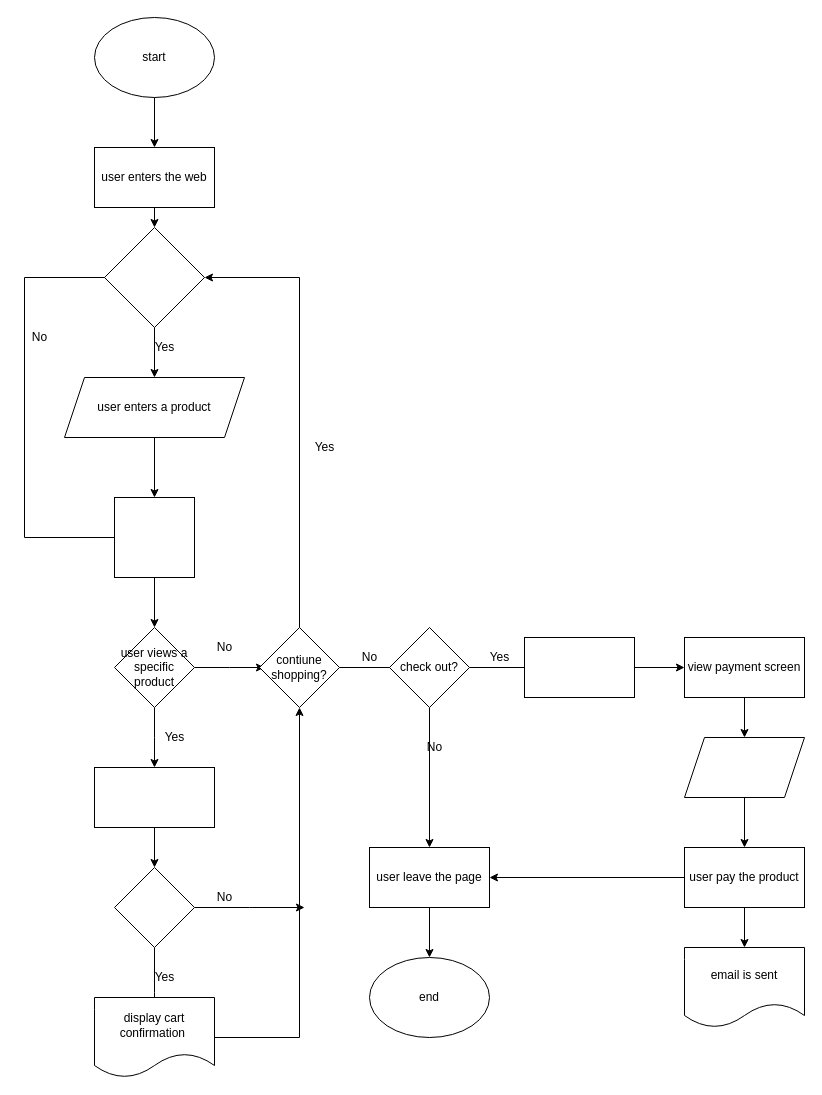
The diagram is 822 pixels wide and 1095 high, and some of its shapes have lost their labels. The shapes that lost their labels are listed below. From the top down, each one's centre as x and y in pixels, then its label:
At (154,277): "user searches for a product".
At (154,537): "user looks through the product".
At (579,667): "view cart screen".
At (744,767): "enter payment info".
At (154,797): "specific product page is opened".
At (154,907): "ask user if add to the cart".
